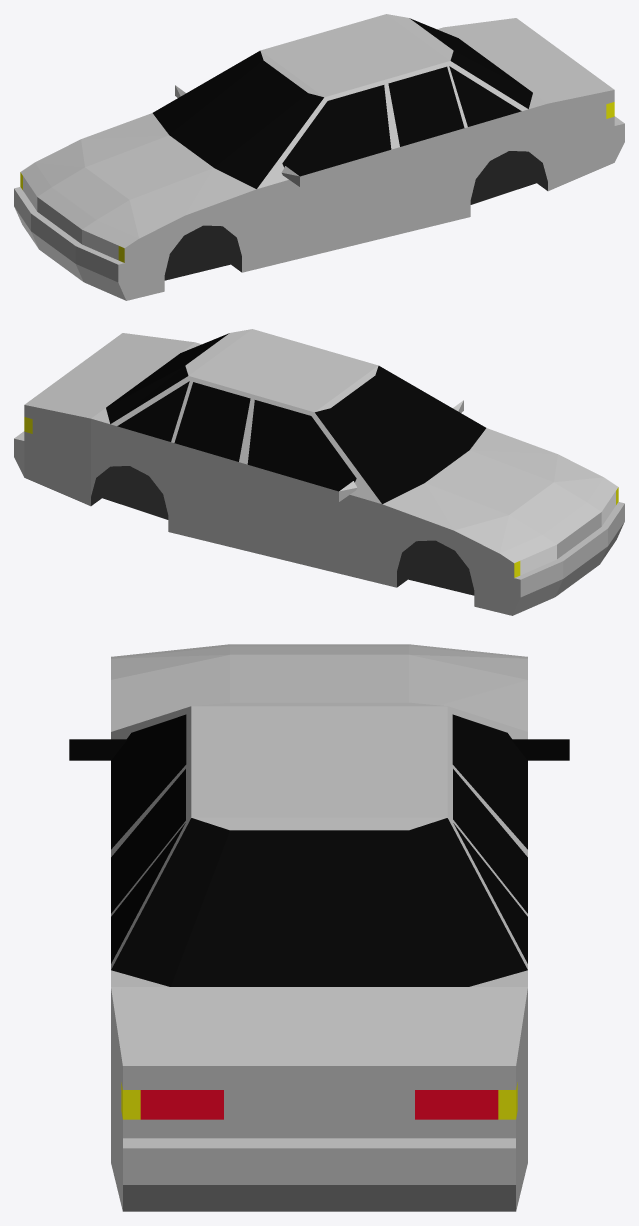
The model's file is car.dae.
3 renders of one model, top to bottom at view 1: azimuth 30°, elevation 25°; view 2: azimuth 150°, elevation 25°; view 3: azimuth 270°, elevation 25°, orthographic. The views are drawn at different scales.
Parts seen in each view (by area): view 1: group_1 (×2), group_0 (×5), group_4; view 2: group_1 (×2), group_0 (×5), group_4; view 3: group_1, group_0 (×7), group_5 (×2), group_2, group_3.
Boxes of the visible parts, bbox=[...] form: group_1 (×2): bbox=[14, 14, 624, 300]; group_0 (×5): bbox=[153, 18, 532, 188]; group_4: bbox=[82, 230, 118, 260]; group_1 (×2): bbox=[14, 329, 624, 615]; group_0 (×5): bbox=[106, 333, 485, 503]; group_4: bbox=[520, 545, 556, 575]; group_1: bbox=[111, 644, 527, 1211]; group_0 (×7): bbox=[111, 714, 527, 986]; group_5 (×2): bbox=[140, 1090, 498, 1119]; group_2: bbox=[69, 739, 127, 760]; group_3: bbox=[511, 739, 569, 760].
Bounding box in the file's own units: 159 × 66.14 × 41.24.
